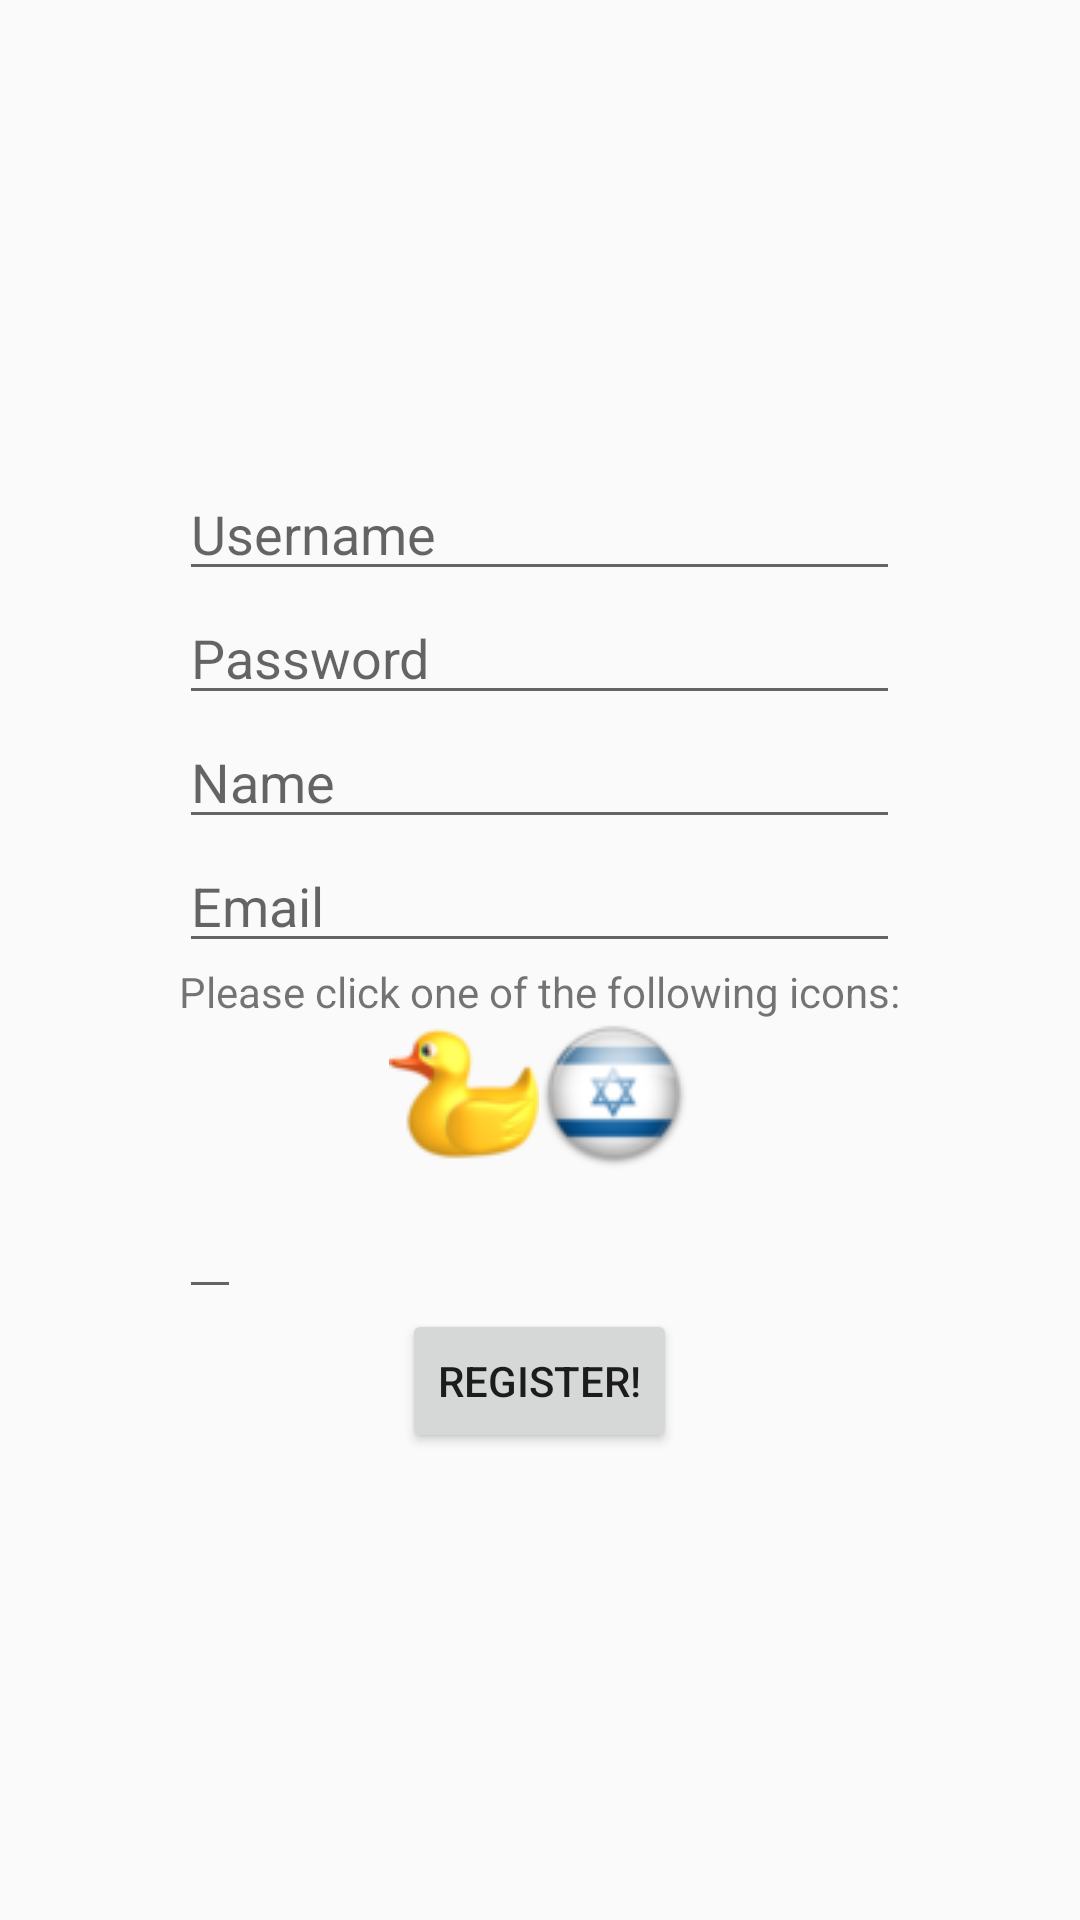

Icon bounding boxes for this 1080x1920 phone screenshot, format (x1, y1, x2, y2):
ducky: (389, 1029, 539, 1159)
israel: (545, 1026, 683, 1163)
